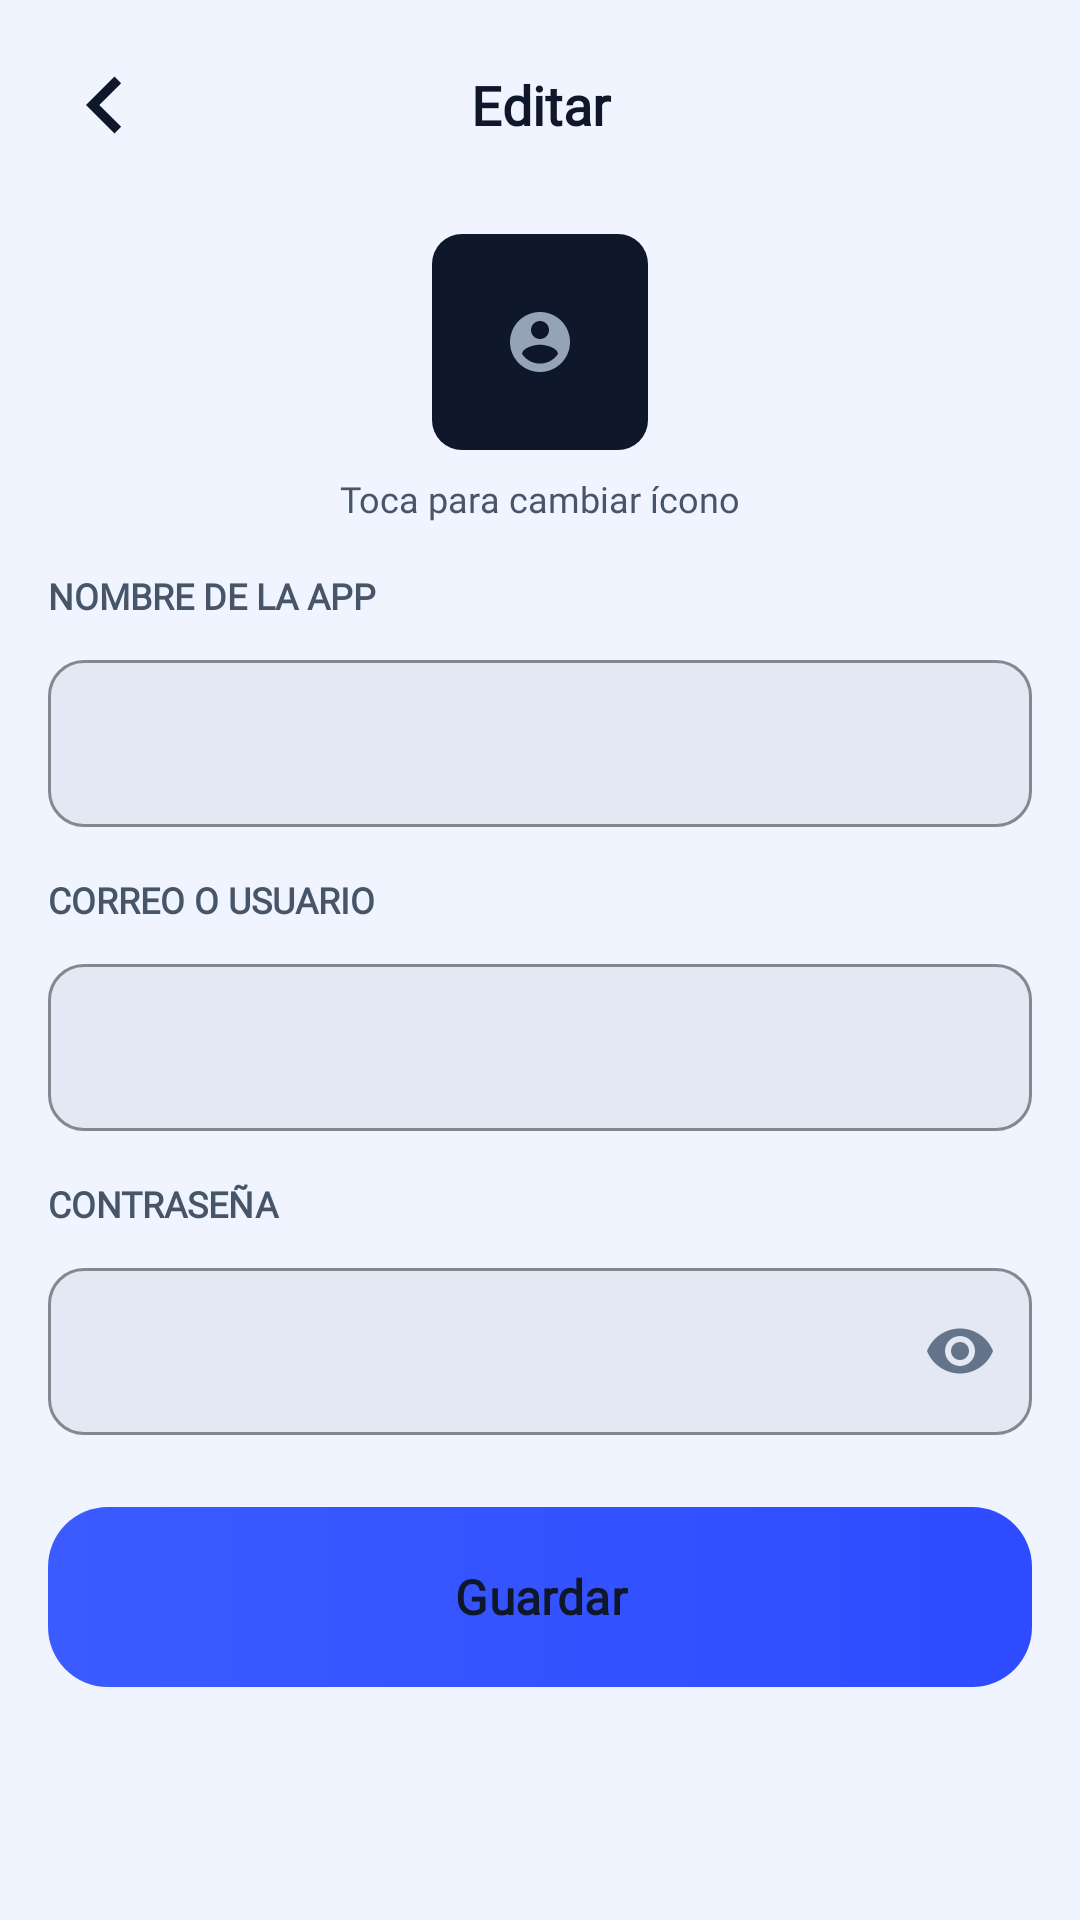

Screen size 1080 × 1920. Icon name, then its box in pixels as (x1, y1, x2, y2):
back: (86, 76, 121, 134)
